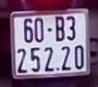0: (72, 44, 87, 72), (33, 16, 46, 43)
2: (14, 46, 29, 74), (43, 45, 56, 72), (60, 45, 72, 72)
3: (66, 15, 77, 42)
5: (29, 45, 41, 73)
6: (20, 17, 34, 44)
B: (54, 14, 66, 42)
